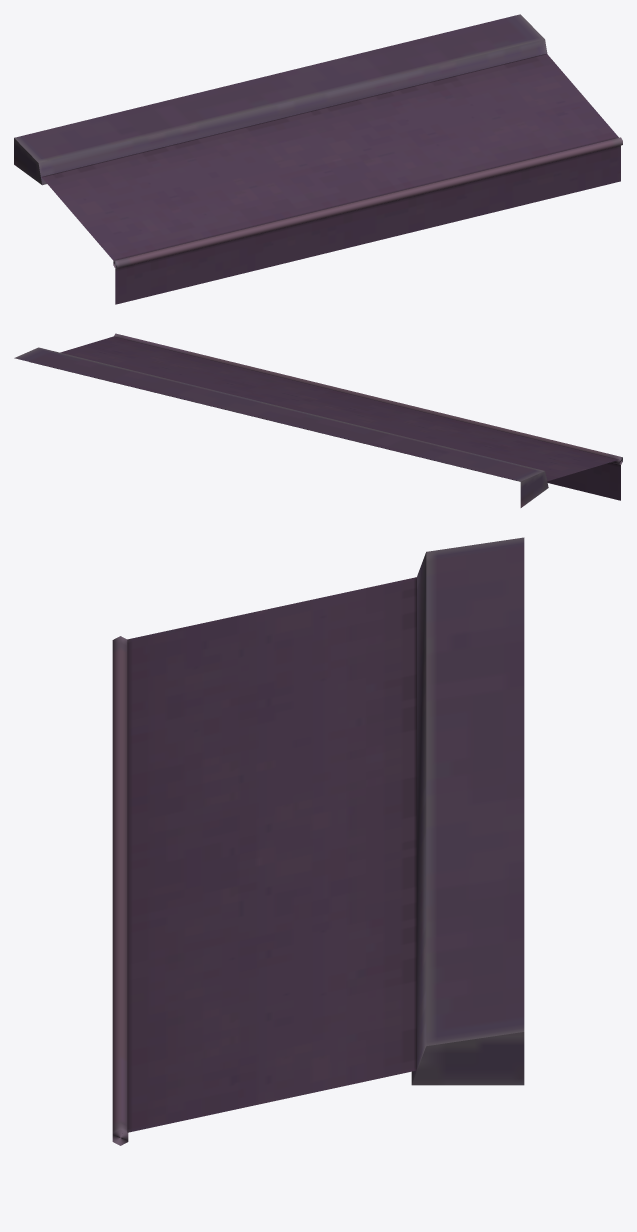
3 views of the same model, one above another, from view 1: azimuth 30°, elevation 25°; view 2: azimuth 150°, elevation 25°; view 3: azimuth 270°, elevation 25° (orthographic). The views are drawn at different scales.
Visible parts, largest first — view 1: um_t1_ar104b_model_t1_ar104b_modelShape; view 2: um_t1_ar104b_model_t1_ar104b_modelShape; view 3: um_t1_ar104b_model_t1_ar104b_modelShape.
Boxes of the visible parts, x1,y1,x2,y2 form: um_t1_ar104b_model_t1_ar104b_modelShape: (14,14,622,304); um_t1_ar104b_model_t1_ar104b_modelShape: (14,333,622,507); um_t1_ar104b_model_t1_ar104b_modelShape: (112,537,524,1145).
Size of the model in its own units: 5.55 by 0.9739 by 1.95.
Materials: 1 (1 with a texture image).
